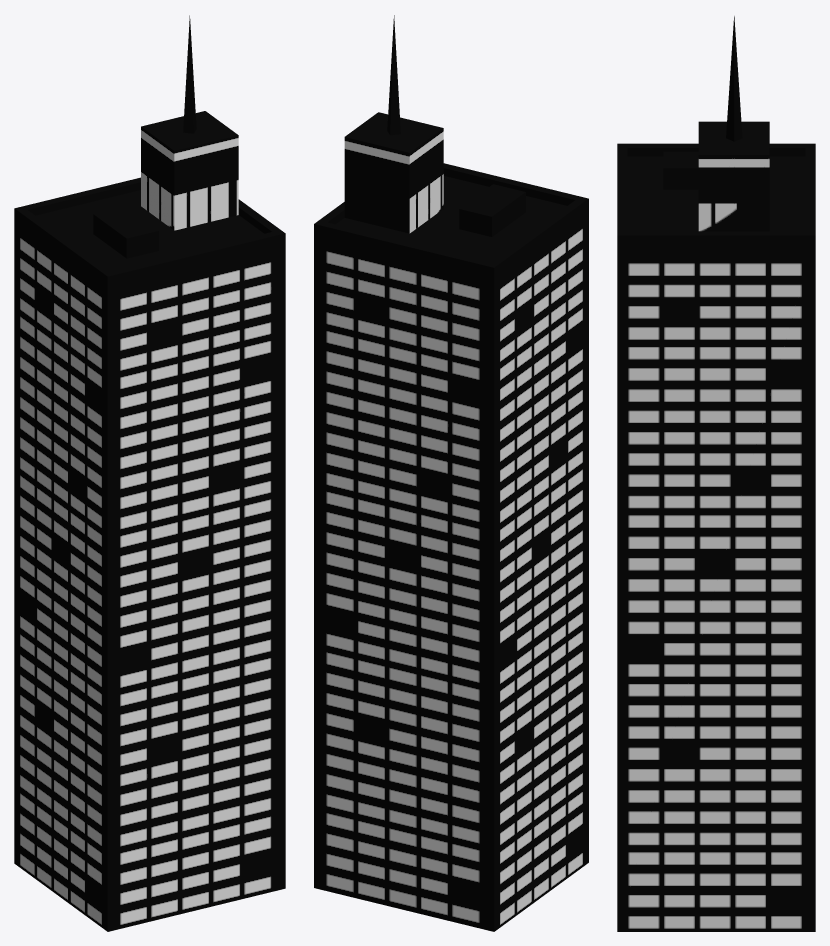
File: building_05.FBX
3 renders of one model, left to right at view 1: azimuth 30°, elevation 25°; view 2: azimuth 150°, elevation 25°; view 3: azimuth 270°, elevation 25°, orthographic. The views are drawn at different scales.
Parts seen in each view (by area): view 1: building_05; view 2: building_05; view 3: building_05.
Boxes of the visible parts, x1=… form: building_05: x1=14, y1=15, x2=285, y2=931; building_05: x1=314, y1=15, x2=588, y2=931; building_05: x1=617, y1=16, x2=815, y2=931.
Size of the model in its own units: 143 by 649 by 130.
